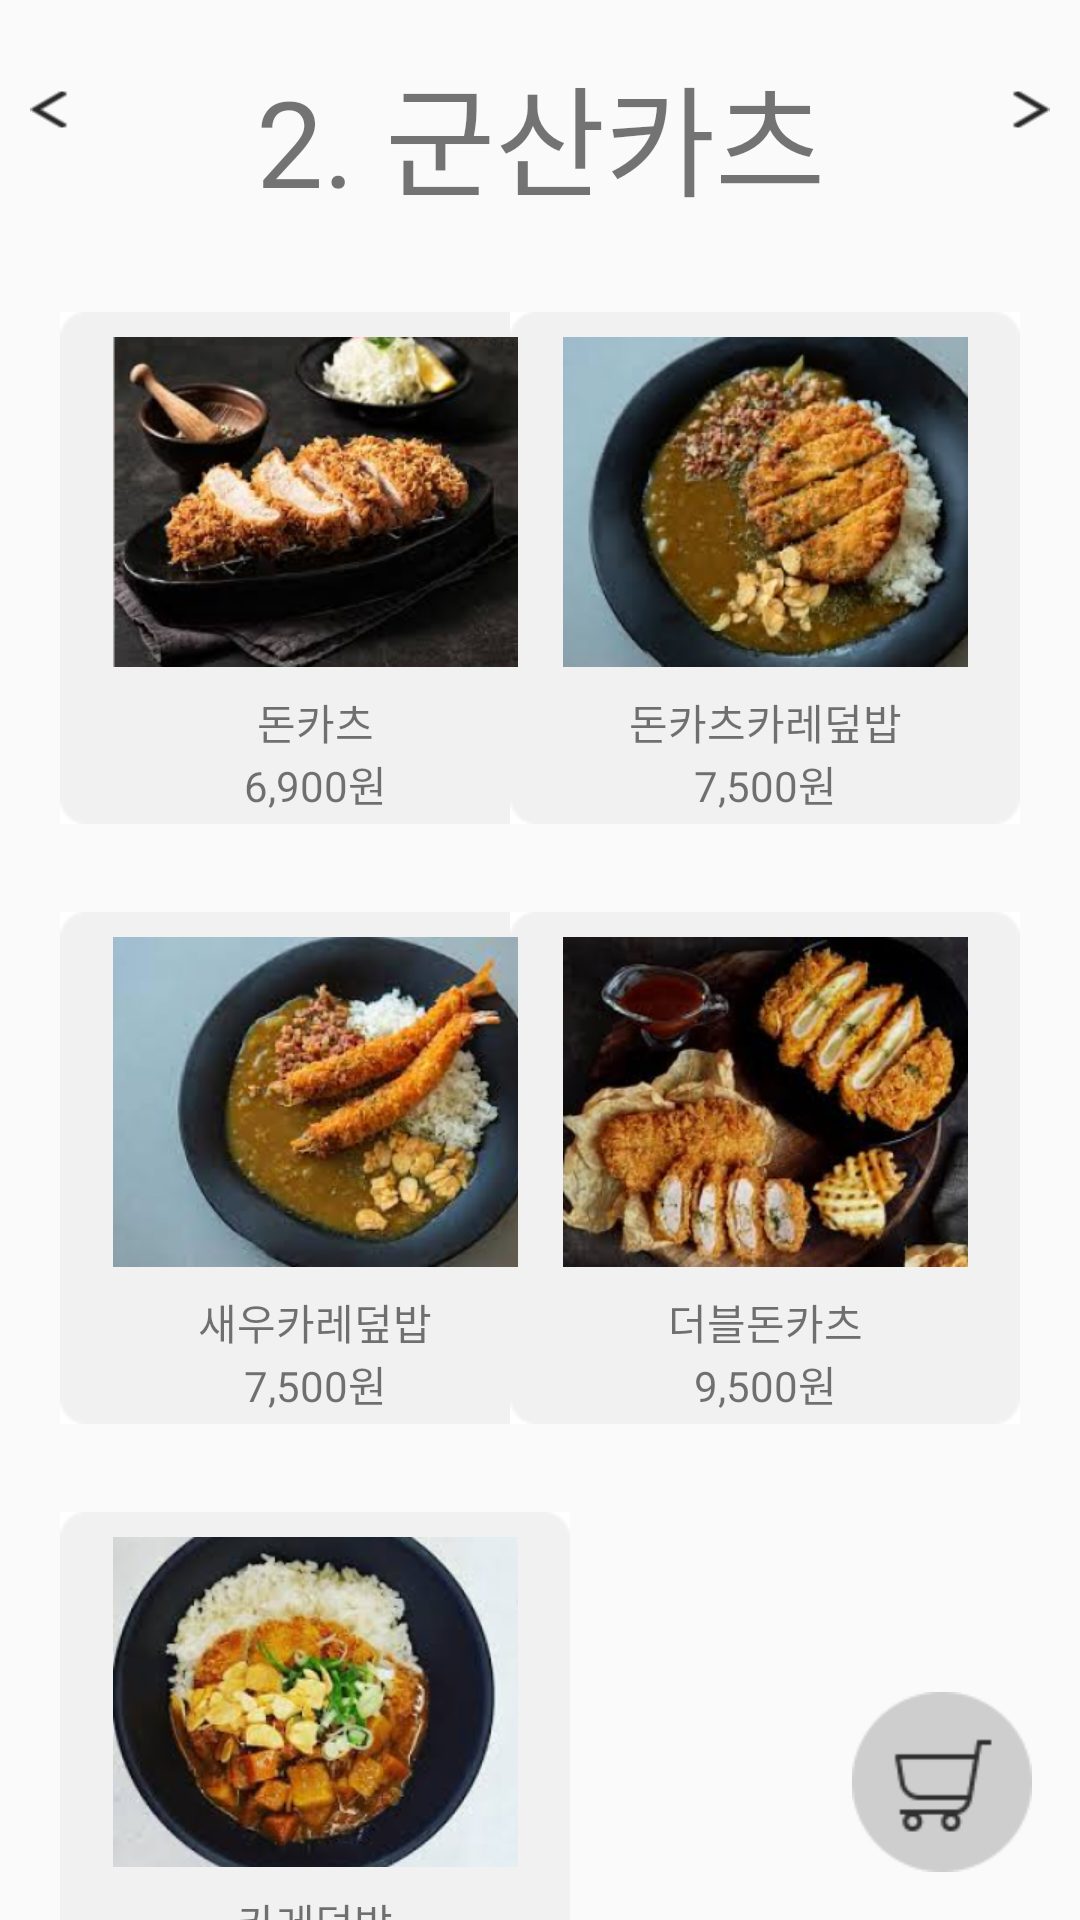

Where icons sit on this 1080x1920 app screen, as BBox(x1, y1, x2, y2):
basket: BBox(852, 1692, 1032, 1872)
goback: BBox(30, 91, 67, 128)
gofront: BBox(1013, 91, 1050, 128)
